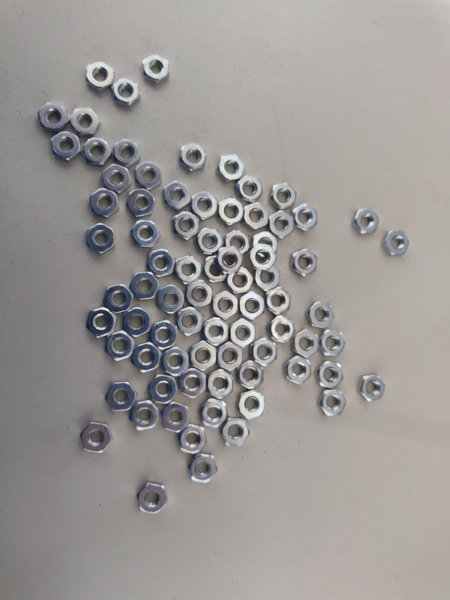nut: (135, 481, 169, 515), (147, 370, 178, 406), (78, 423, 111, 455), (85, 306, 117, 339), (186, 452, 218, 484), (84, 223, 117, 254), (104, 381, 138, 411), (158, 284, 187, 319), (150, 318, 179, 353), (133, 343, 164, 375), (206, 368, 237, 400), (141, 52, 171, 85), (125, 186, 155, 219), (317, 328, 346, 362), (175, 304, 203, 339), (83, 133, 112, 166), (265, 284, 292, 319), (178, 368, 208, 399), (103, 283, 133, 314), (120, 307, 150, 338), (128, 401, 157, 433), (131, 216, 160, 248), (130, 270, 159, 302), (195, 223, 224, 255), (102, 161, 131, 192), (217, 153, 246, 184), (84, 60, 116, 88), (163, 180, 191, 212), (283, 355, 312, 385), (88, 189, 118, 218), (251, 232, 280, 262), (172, 209, 200, 240), (103, 334, 134, 362), (239, 389, 266, 421), (39, 99, 66, 131), (163, 345, 190, 377), (239, 290, 266, 322), (305, 302, 337, 329), (220, 418, 249, 447), (111, 76, 139, 106), (188, 342, 218, 370), (249, 243, 277, 273), (228, 265, 256, 295), (318, 386, 345, 417), (51, 131, 78, 162), (184, 281, 215, 308), (226, 225, 253, 256), (290, 248, 318, 277), (200, 398, 228, 427), (71, 108, 100, 136), (191, 191, 219, 220), (317, 360, 346, 388), (202, 254, 230, 283), (358, 373, 385, 403), (179, 423, 205, 454), (253, 337, 279, 368), (271, 312, 296, 344), (353, 207, 380, 236), (237, 361, 266, 388), (212, 292, 241, 319), (384, 226, 410, 256), (163, 403, 189, 433), (218, 342, 244, 372), (116, 136, 141, 167), (135, 161, 162, 189), (294, 330, 320, 359), (246, 201, 270, 232), (230, 319, 257, 346), (219, 197, 245, 225), (147, 250, 175, 276), (182, 140, 207, 169), (176, 255, 201, 284), (295, 201, 318, 232), (271, 181, 295, 210), (271, 208, 295, 237), (220, 245, 243, 275), (238, 174, 262, 202), (205, 316, 227, 346), (258, 265, 281, 292)
